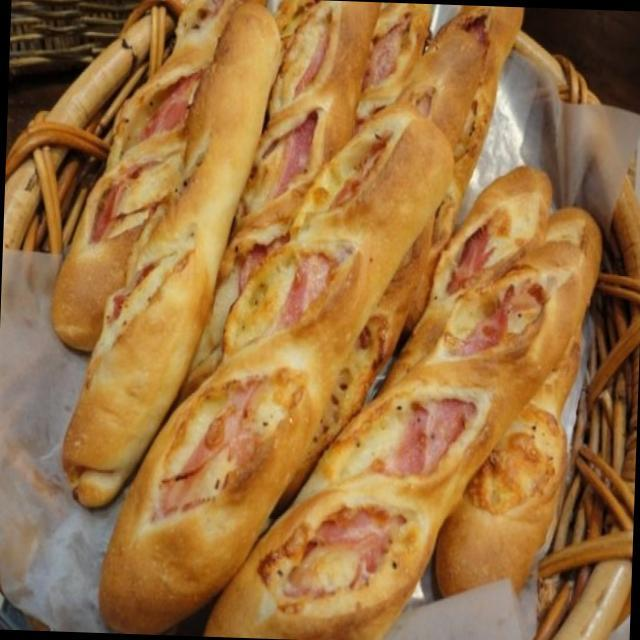Bread: (54, 4, 579, 640)
